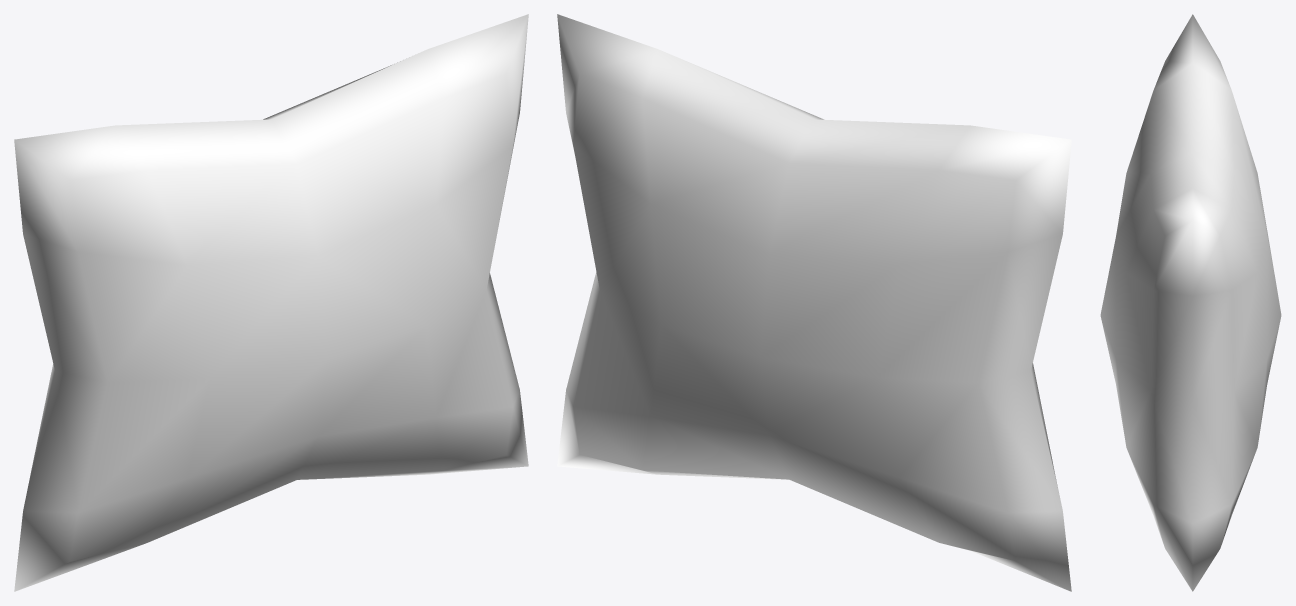
File: Pilo_Level_03.fbx
3 views of the same model, side by side, from view 1: azimuth 30°, elevation 25°; view 2: azimuth 150°, elevation 25°; view 3: azimuth 270°, elevation 25° (orthographic). The views are drawn at different scales.
Parts seen in each view (by area): view 1: Pilo_Level_03; view 2: Pilo_Level_03; view 3: Pilo_Level_03.
Boxes of the visible parts, x1,y1,x2,y2 form: Pilo_Level_03: (14,14,528,591); Pilo_Level_03: (557,14,1071,591); Pilo_Level_03: (1100,14,1281,591).
Bounding box in the file's own units: 112 × 94.38 × 41.66.
